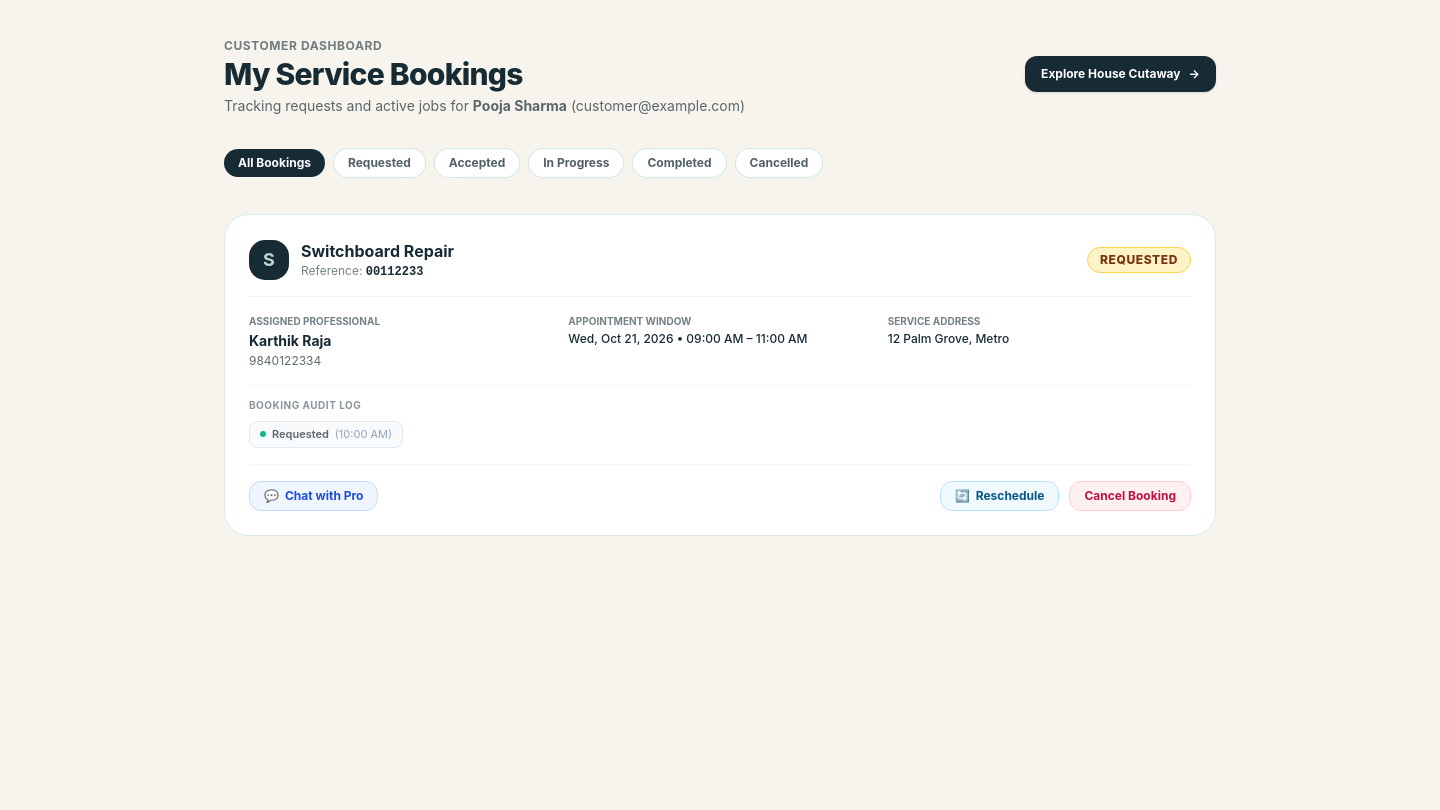
Test: MyBookingsView Component › renders Reschedule button for eligible requested/accepted bookings and opens RescheduleModal
The image size is (1440, 810).
Click the button "🔄 Reschedule" at (1000, 496), box [940,480,1060,510]
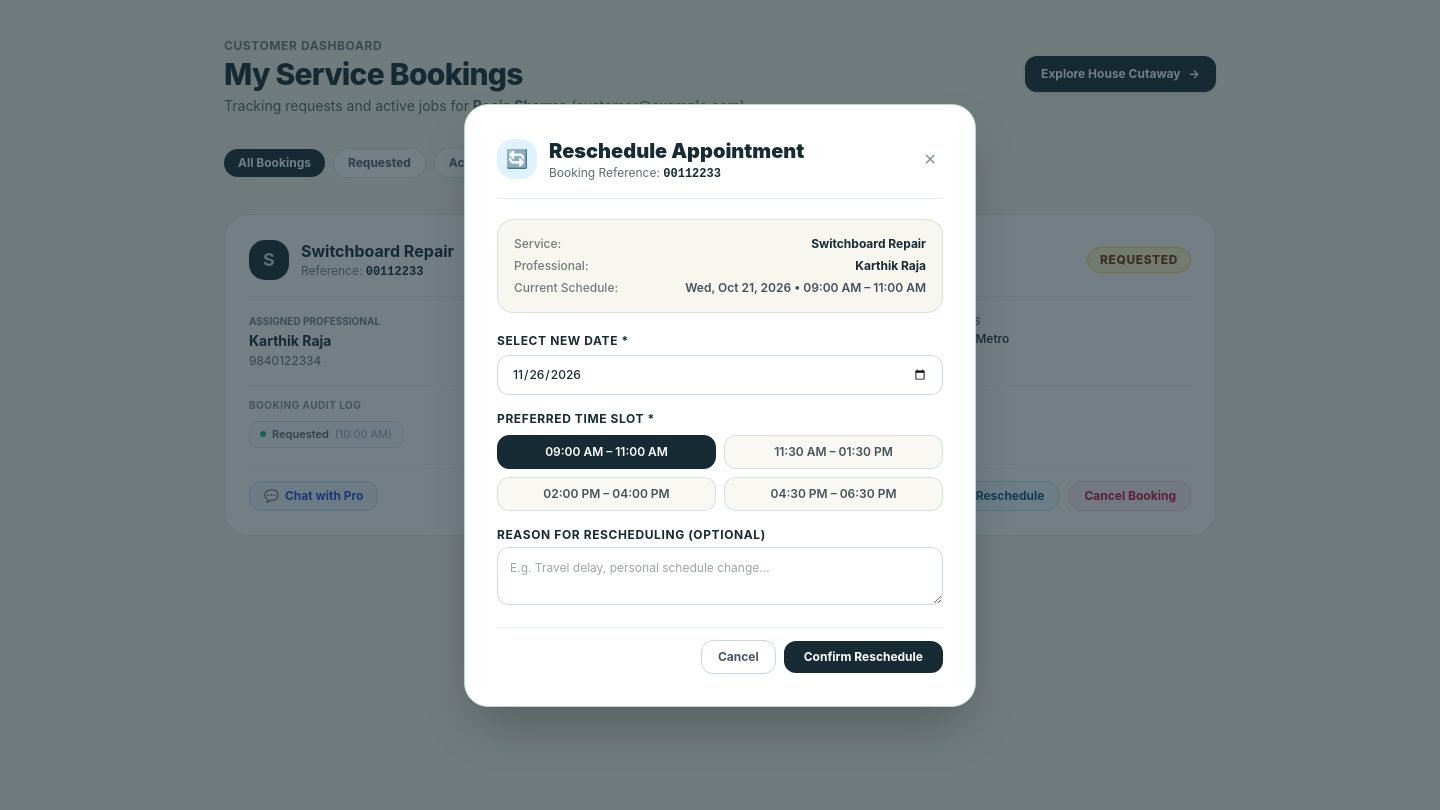
Now the heading "Reschedule Appointment" is shown, box [549,136,804,164]
